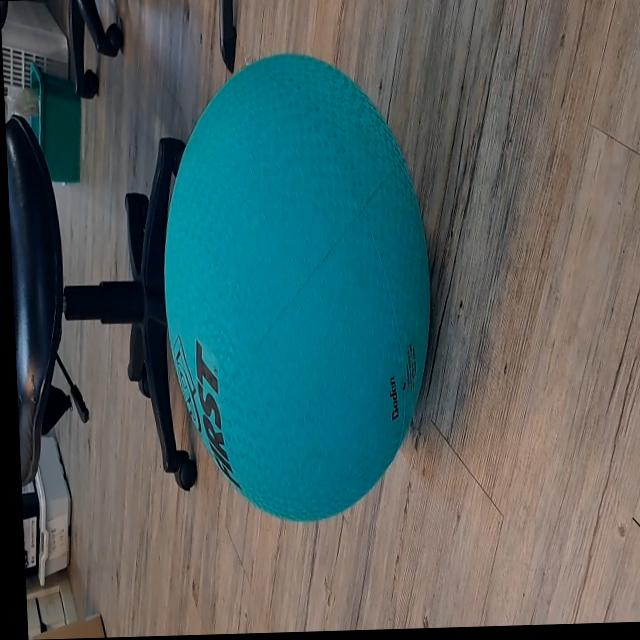ALGAE: (152, 47, 442, 528)
